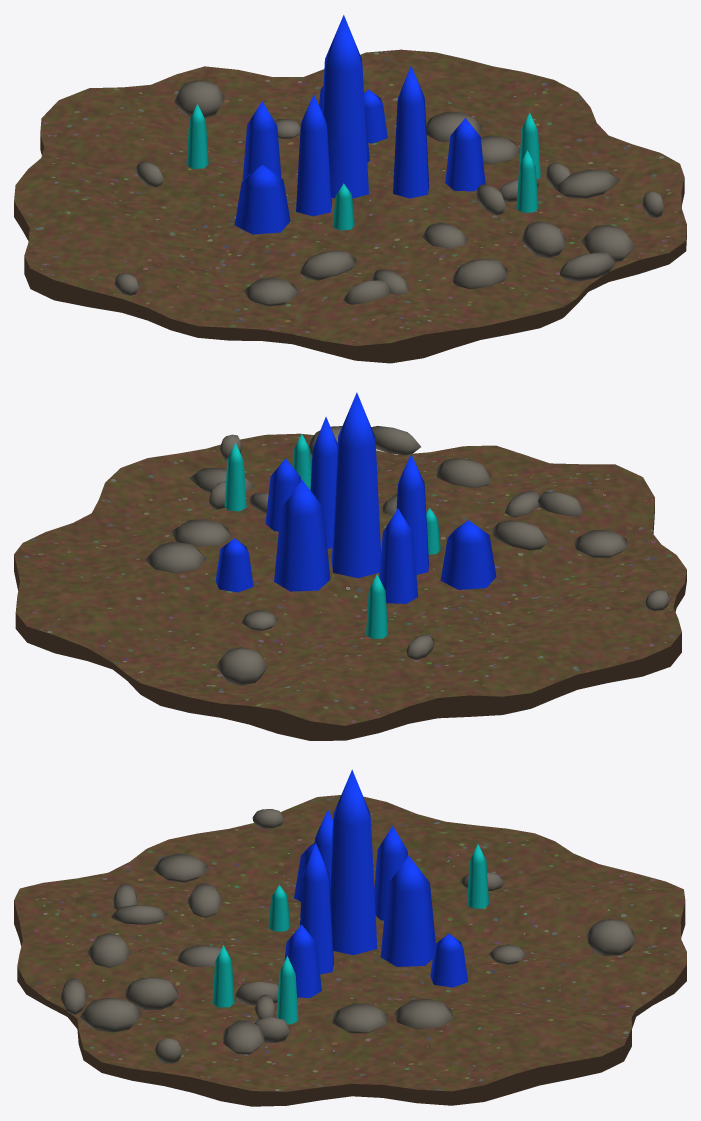
The model's file is resource_cluster_blue_01.obj.
3 renders of one model, top to bottom at view 1: azimuth 30°, elevation 25°; view 2: azimuth 150°, elevation 25°; view 3: azimuth 270°, elevation 25°, orthographic.
Parts seen in each view (by area): view 1: mesh; view 2: mesh; view 3: mesh.
Part boxes in pixels (x1=…): mesh: x1=14, y1=15, x2=686, y2=363; mesh: x1=14, y1=392, x2=686, y2=740; mesh: x1=14, y1=769, x2=686, y2=1106.
Size of the model in its own units: 3.42 by 1.08 by 3.33.
5 materials, 1 textured.
